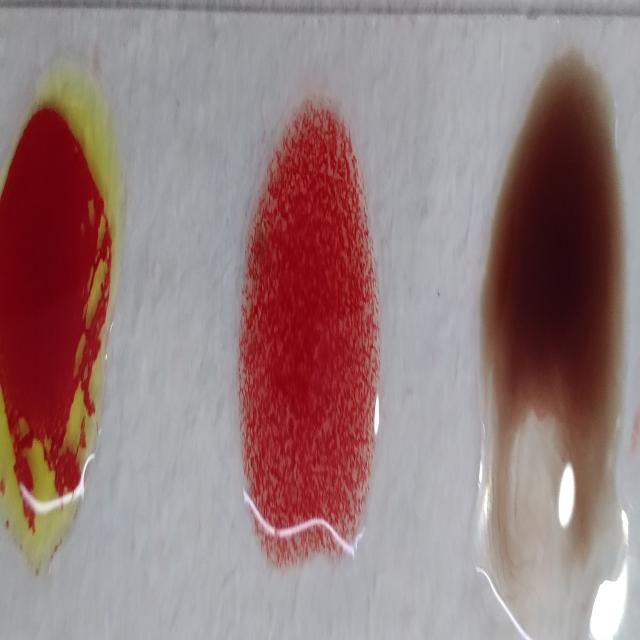B: (2, 62, 122, 582)
D: (241, 113, 381, 582)
